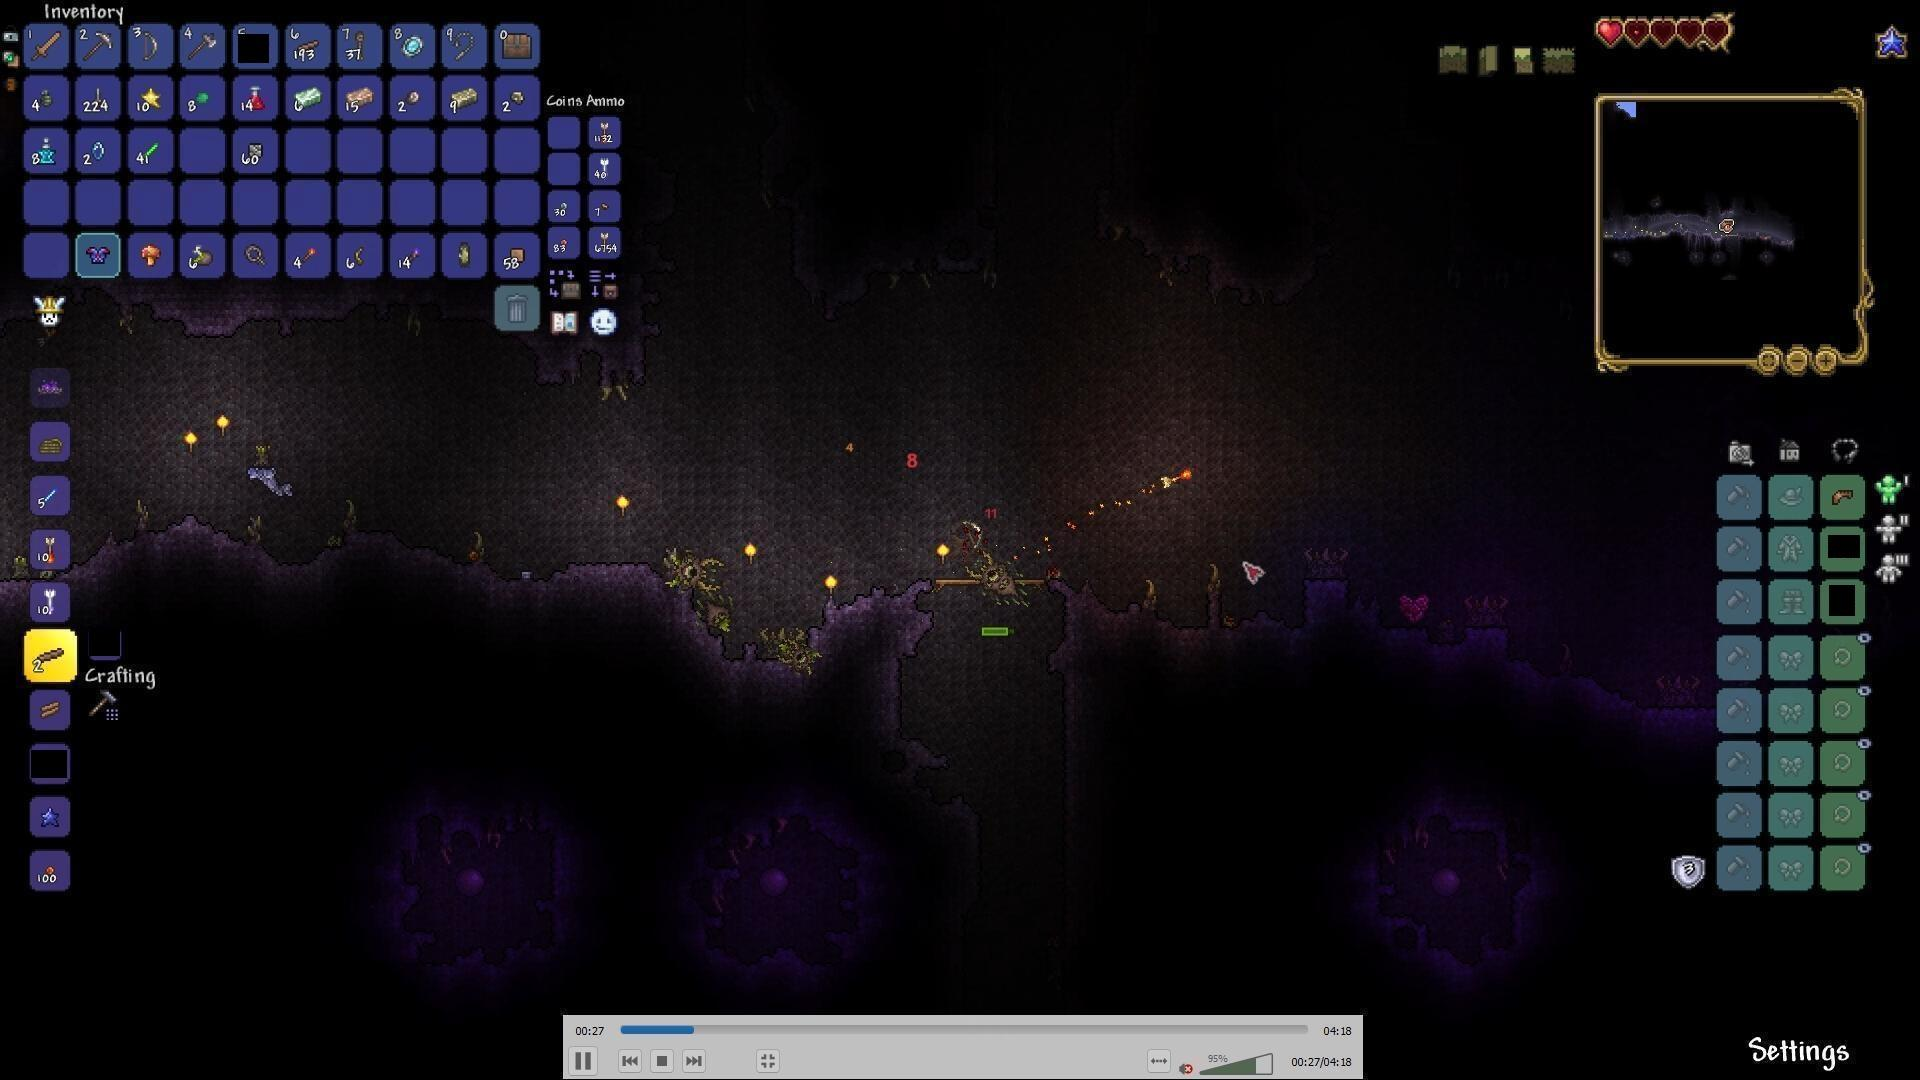breastplate: (82, 241, 113, 268)
helmet: (1825, 480, 1859, 512)
wood: (38, 698, 69, 727)
